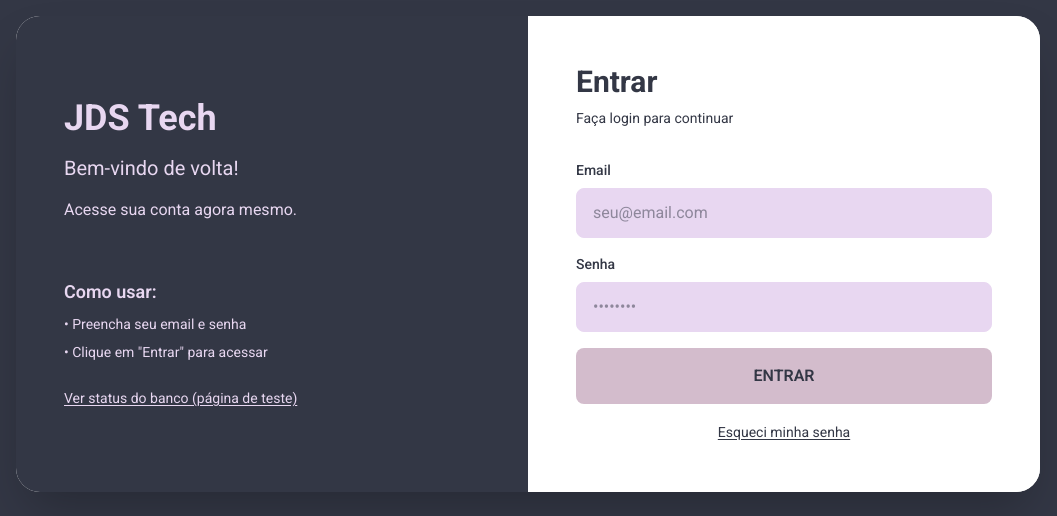
Scenario: LoginPage › Estados de Loading › deve mostrar loading quando formulário é submetido
The image size is (1057, 516).
Type "teste@email.com" into the field labelled "Email" at (784, 213), box [576, 188, 992, 238]
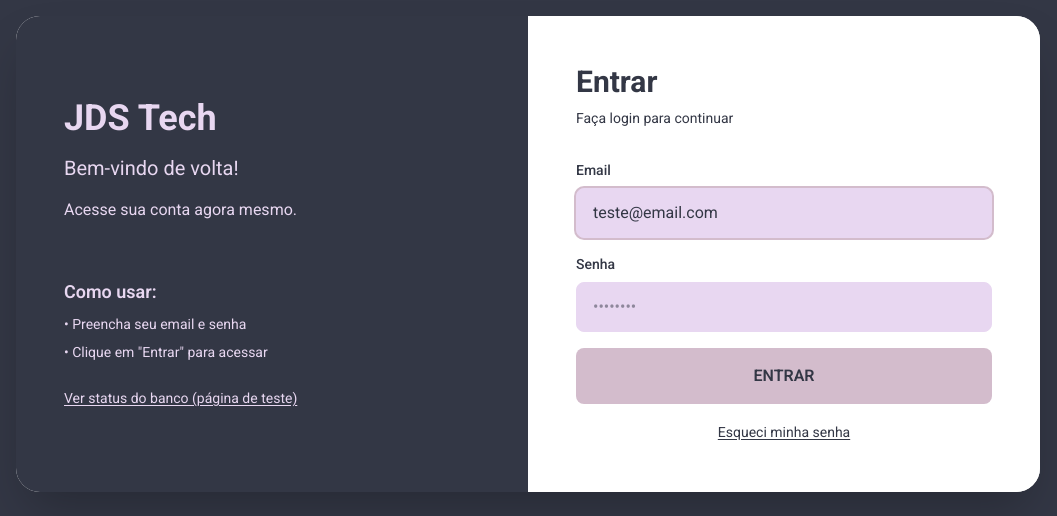
Type "senha123" into the password field labelled "Senha" at (784, 307), box [576, 282, 992, 332]
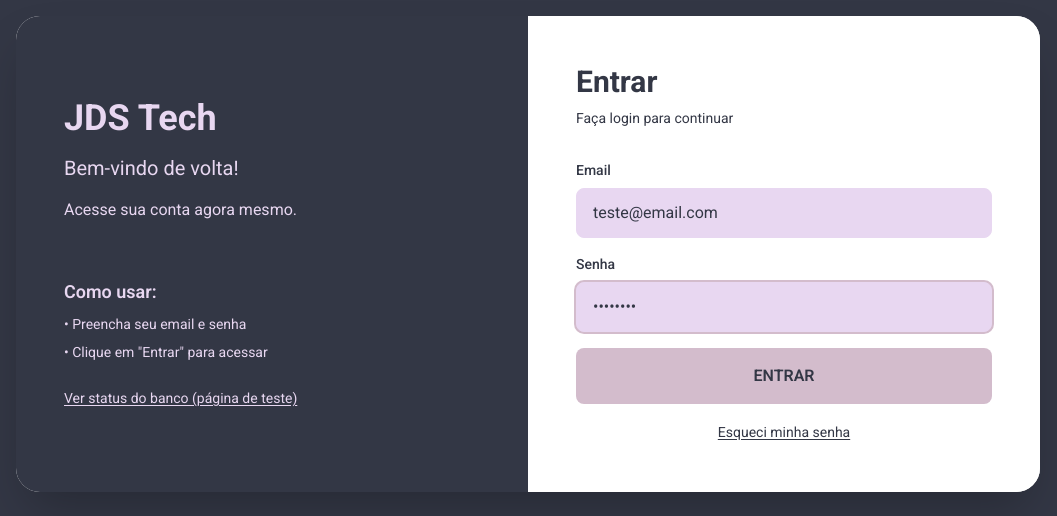
Click the button "ENTRAR" at (784, 376), box [576, 348, 992, 404]
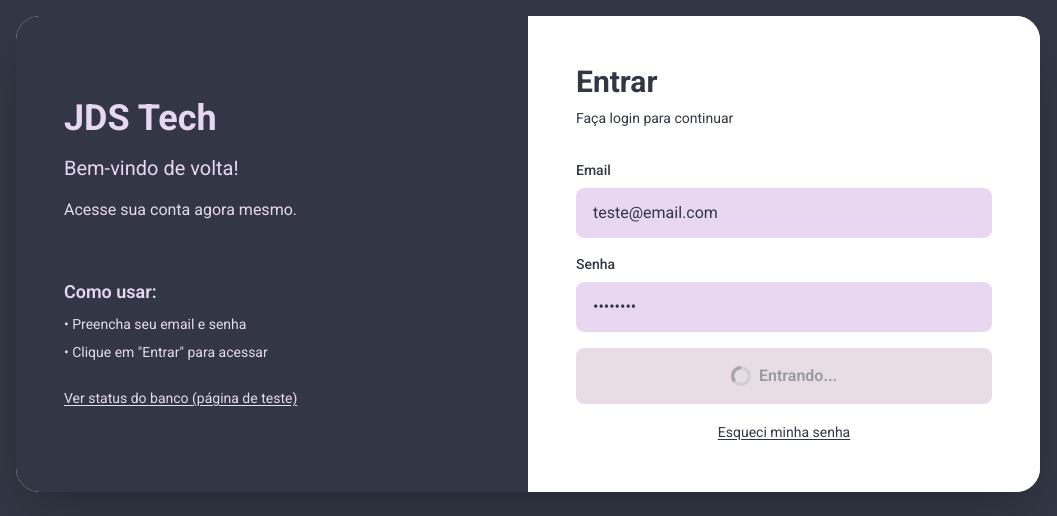
Now the text "Entrando..." is shown, box [759, 364, 837, 388]
Now the button named "entrar" is disabled, box [576, 348, 992, 404]
